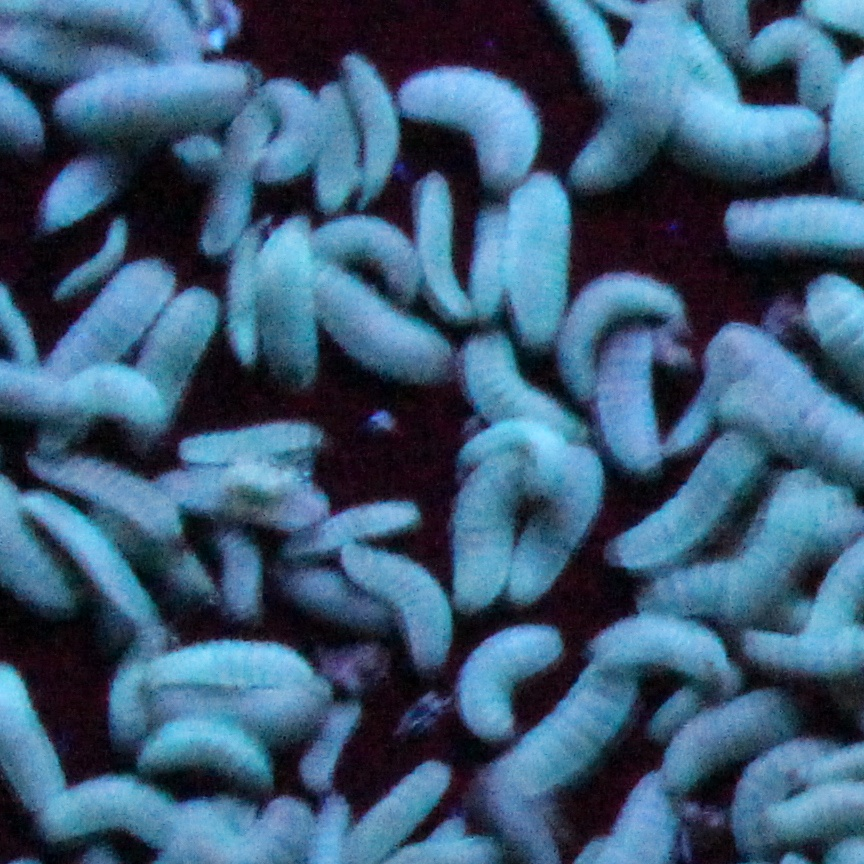larve: (615, 424, 758, 563), (578, 6, 684, 186), (18, 488, 166, 614), (42, 254, 178, 390), (307, 264, 462, 381), (400, 64, 548, 183), (49, 57, 266, 137), (515, 648, 637, 784), (666, 679, 824, 783), (557, 268, 686, 392), (33, 444, 184, 543), (137, 290, 231, 437), (342, 541, 455, 661), (460, 330, 578, 444), (515, 443, 597, 601), (671, 97, 822, 177), (457, 444, 529, 608), (135, 717, 284, 795), (460, 626, 558, 743), (507, 174, 573, 343), (255, 215, 318, 383), (300, 212, 429, 294), (335, 55, 404, 206), (149, 634, 318, 695), (600, 315, 662, 466), (671, 326, 748, 446), (729, 739, 813, 848), (735, 14, 835, 104), (44, 775, 178, 841), (193, 114, 257, 252), (589, 614, 724, 679), (411, 172, 471, 315), (631, 564, 780, 614), (51, 214, 135, 297), (458, 419, 562, 483), (289, 563, 391, 628), (262, 72, 326, 175), (282, 504, 424, 550), (113, 623, 162, 739), (211, 524, 264, 623), (53, 361, 160, 410), (304, 697, 357, 794), (233, 221, 266, 363), (180, 424, 331, 455), (475, 197, 507, 314)
